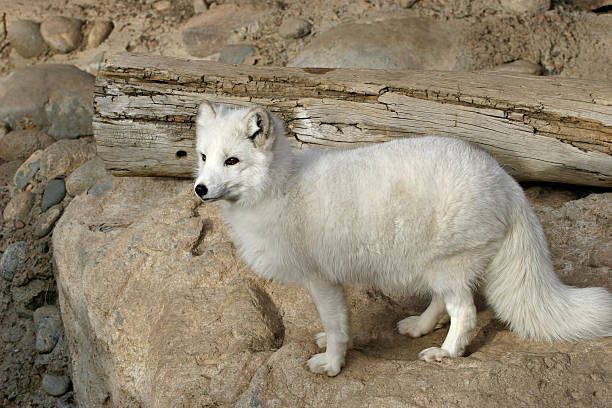arcticfox: (176, 112, 265, 221)
